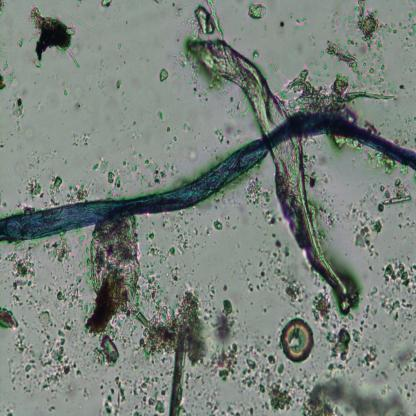Background material: (132, 288, 204, 415), (83, 215, 140, 336), (210, 344, 302, 407), (284, 64, 395, 115), (23, 307, 84, 390), (142, 210, 197, 298), (302, 372, 412, 416), (247, 235, 309, 308), (312, 290, 355, 376), (29, 3, 82, 68), (348, 3, 395, 60), (352, 288, 384, 367), (346, 200, 385, 260), (379, 258, 416, 318), (3, 247, 40, 306), (128, 150, 178, 190), (205, 298, 240, 345), (280, 316, 315, 362), (128, 374, 168, 414), (322, 36, 365, 70), (49, 273, 89, 309), (375, 175, 411, 213), (91, 330, 124, 370), (90, 160, 128, 191), (102, 374, 128, 414), (8, 333, 25, 394), (194, 1, 223, 36), (40, 236, 75, 264), (245, 176, 272, 211), (302, 149, 324, 189), (392, 346, 416, 379), (74, 229, 92, 271), (399, 6, 416, 50), (216, 120, 244, 146), (0, 58, 20, 92), (10, 94, 26, 135), (65, 181, 91, 205), (0, 306, 22, 333), (24, 174, 46, 201), (46, 176, 65, 206), (247, 1, 270, 22), (72, 130, 90, 148), (292, 13, 307, 33), (205, 281, 217, 304), (184, 148, 199, 166), (211, 216, 224, 233), (158, 68, 170, 84), (0, 0, 9, 15), (156, 108, 165, 122), (100, 1, 114, 10), (15, 38, 25, 50), (252, 51, 260, 63), (116, 78, 122, 90)
Cellulose filter fibre: (189, 34, 359, 311)
Cotton: (0, 108, 416, 243)
